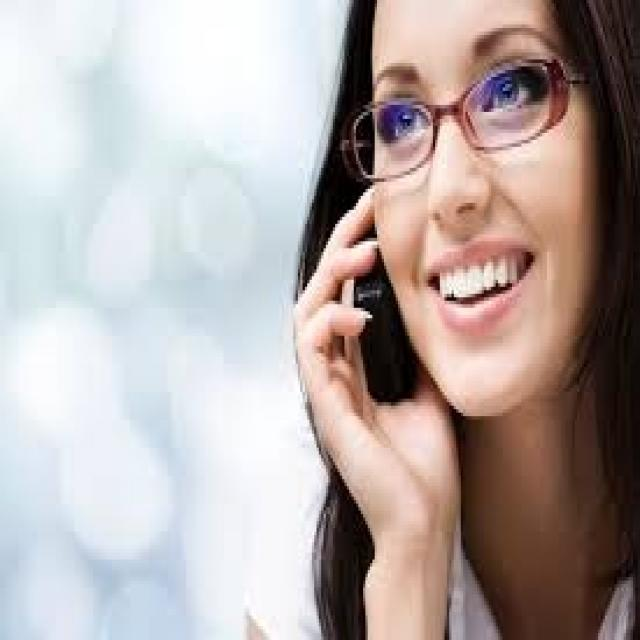phone: (251, 63, 468, 532)
